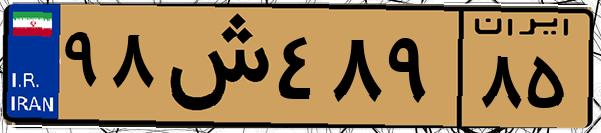4: (270, 28, 330, 110)
5: (525, 38, 570, 115)
8: (330, 28, 385, 110), (475, 38, 525, 113), (110, 28, 158, 98)
9: (385, 28, 445, 110), (57, 26, 110, 100)
ش: (158, 12, 270, 120)
